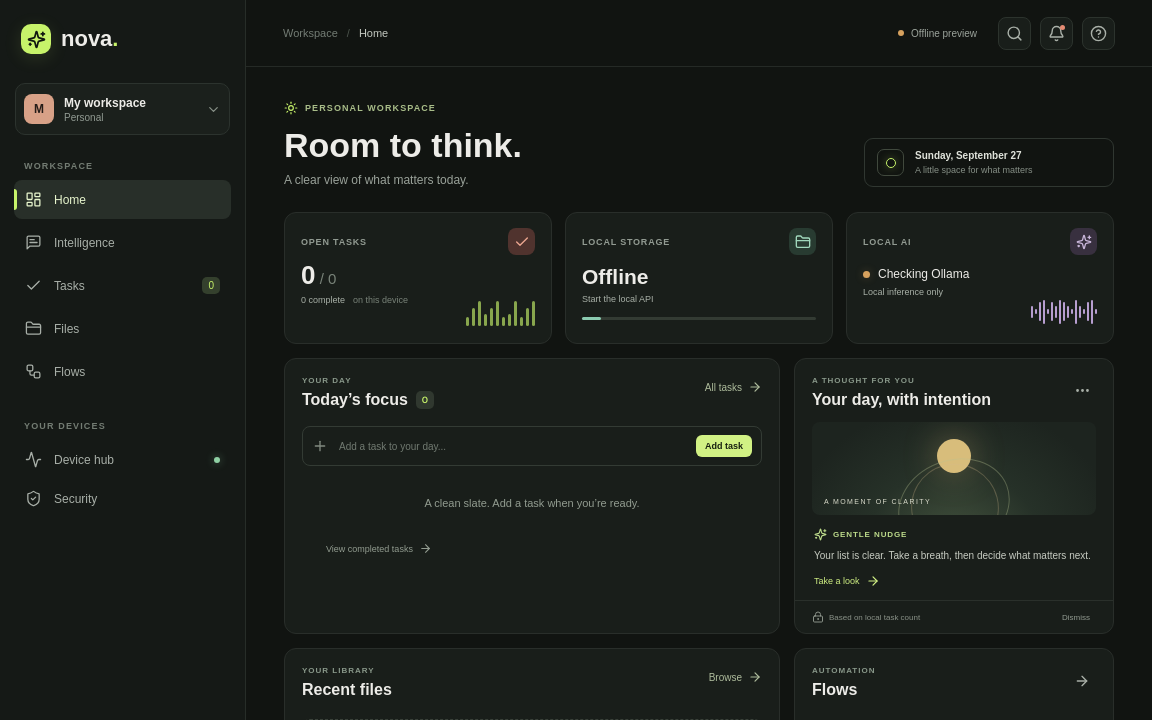
NOVA workspace › shows an actionable empty task state when local storage is unavailable
Expected: the text "A clean slate. Add a task when you’re ready." is shown, [424, 497, 640, 509]
Type "Draft a plan" into the field named "New task" at [512, 446], box [337, 440, 687, 453]
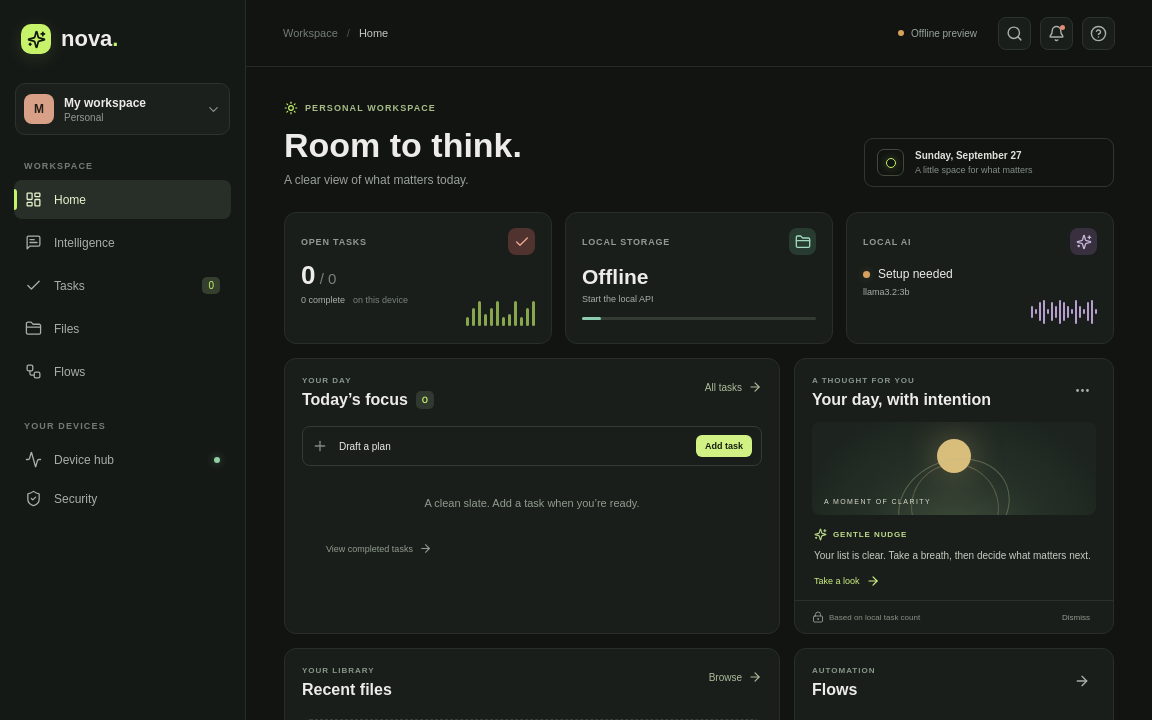
Click the button "Add task" at [724, 446], box [696, 435, 752, 457]
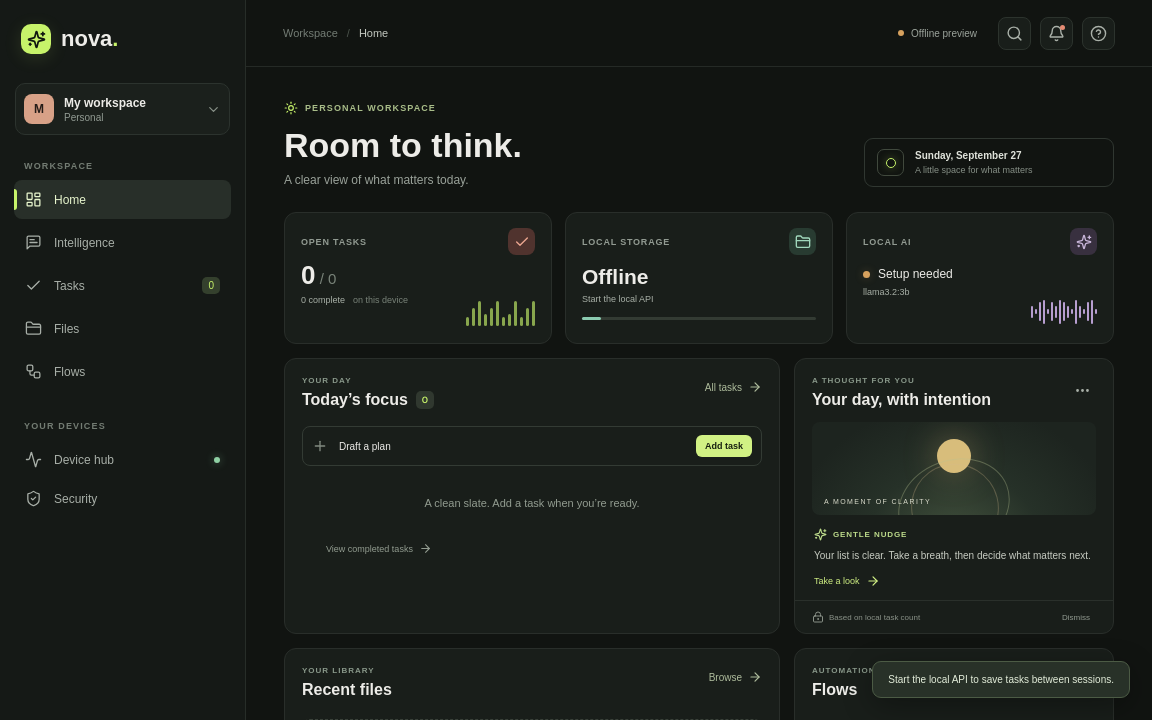
Expected: the message "Start the local API to save tasks between sessions." is shown, [872, 661, 1130, 698]
